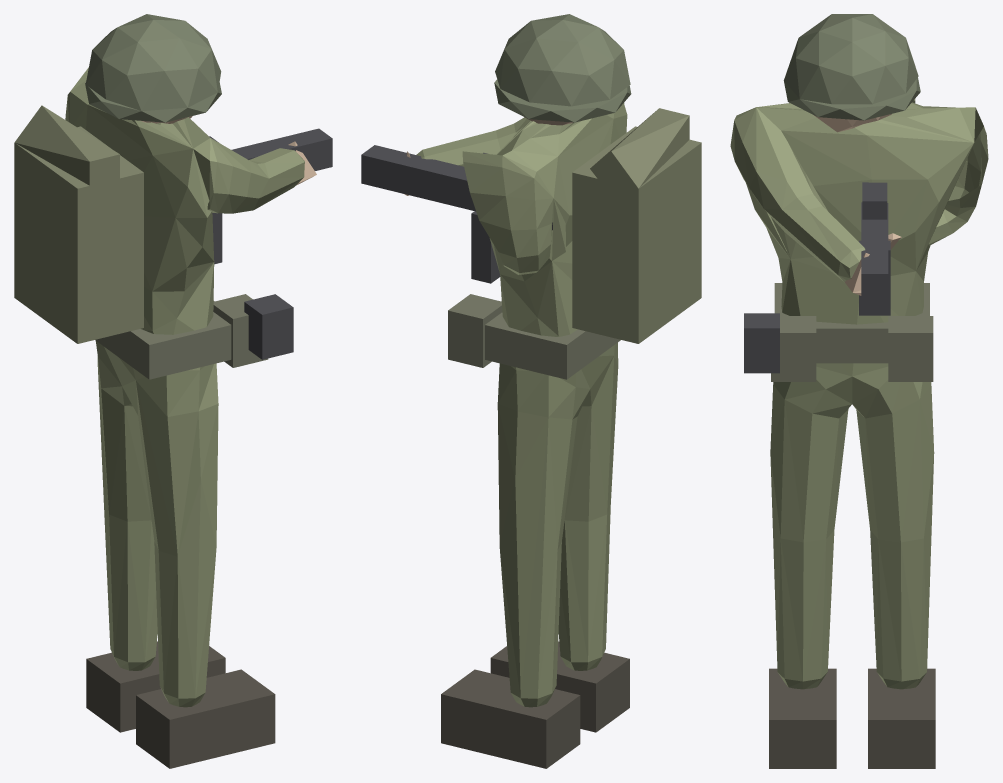
The model's file is trooper_us.lod1.glb.
The picture shows the model from 3 angles, left to right: view 1: azimuth 30°, elevation 25°; view 2: azimuth 150°, elevation 25°; view 3: azimuth 270°, elevation 25°; orthographic projection.
Bounding box in the file's own units: 0.745 × 1.74 × 0.5723.
